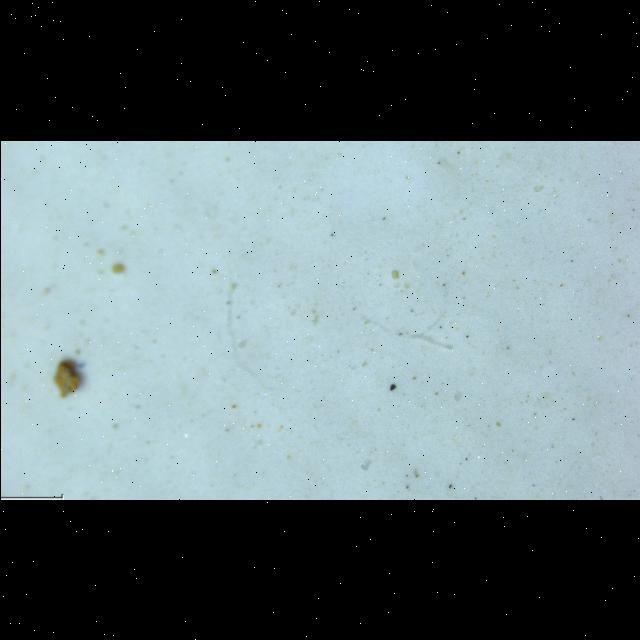Fibre: (225, 273, 258, 379), (361, 316, 452, 349)
Fragment: (53, 361, 79, 398)
